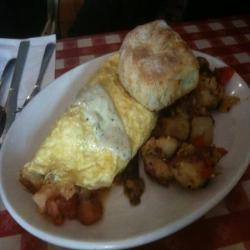bread: (112, 17, 202, 111)
omelette: (26, 49, 160, 193)
potatoes: (141, 55, 234, 204)
